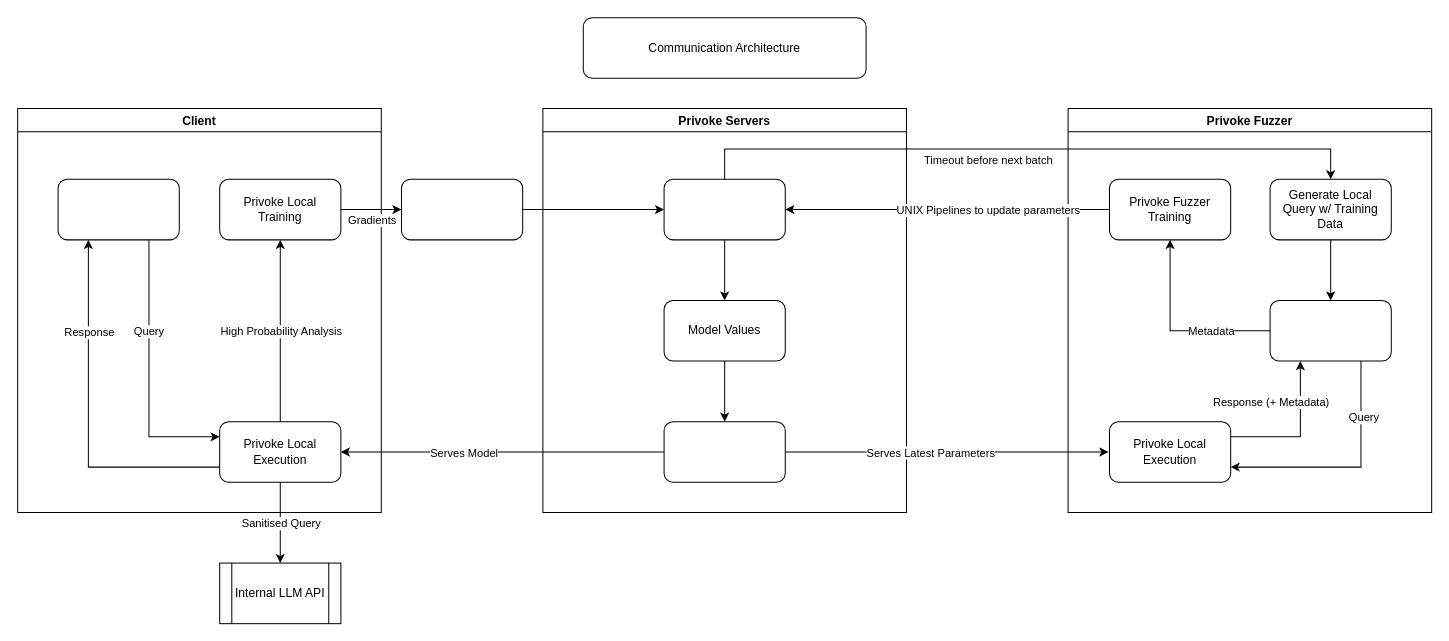
Image size: 1449x641. Some labels were removed from this diagram. The centre of each missing label's shape, as x and y in pixels:
"Client Interface" belongs at [118,209].
"Encode correct analysis values" belongs at [1330,330].
"FL / DP Pipeline" belongs at [461,209].
"Model Server Service" belongs at [724,451].
"Model Updater Service" belongs at [724,209].
